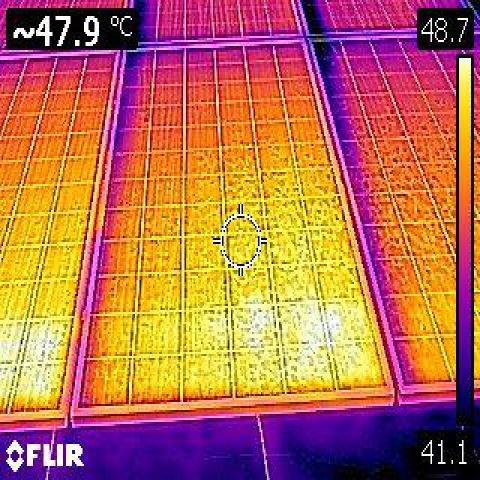fault: (0, 312, 69, 401), (291, 296, 347, 347), (235, 292, 268, 346)
